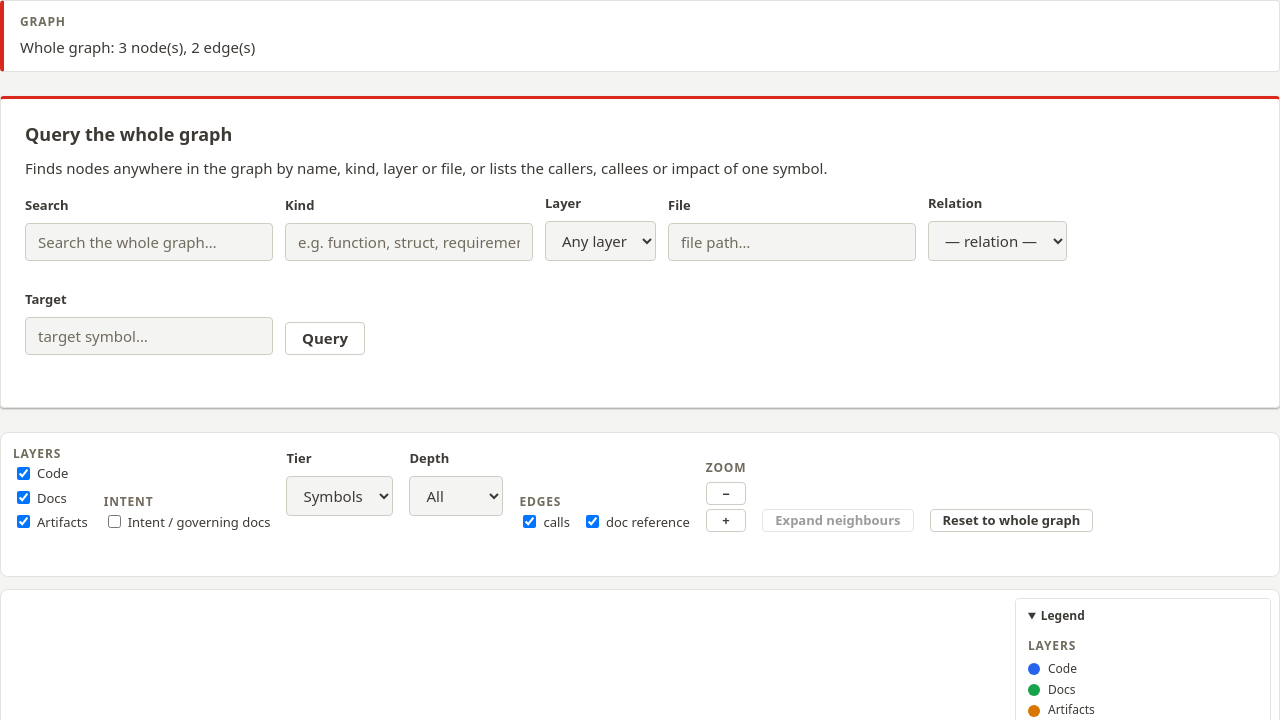
Scenario: GraphView migration (S-186, FR-UI-08 / FR-UI-21) › surfaces an honest notice when an interactive re-fetch fails
This screenshot has width=1280, height=720.
Click the checkbox labelled "Docs" at coordinates (24, 498), box [17,491,30,504]
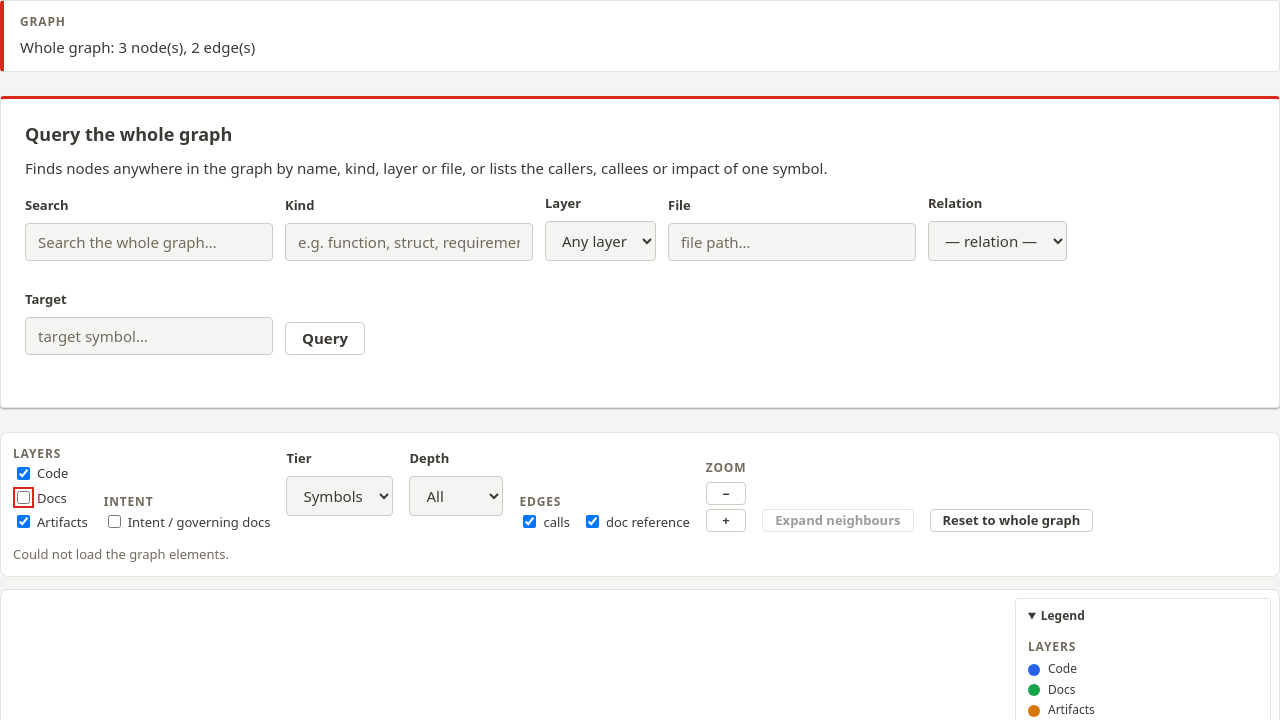
Expected: the text "Could not load the graph elements." is shown, [13,545,229,563]
